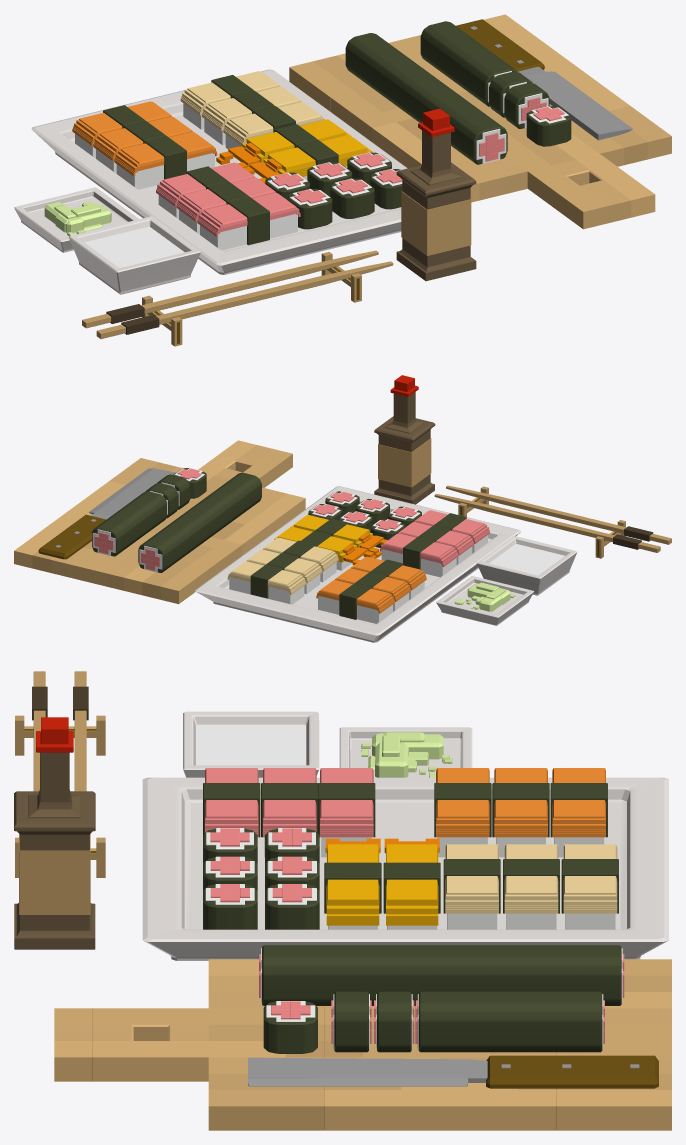
The model's file is soosh.fbx.
The picture shows the model from 3 angles, top to bottom: view 1: azimuth 30°, elevation 25°; view 2: azimuth 150°, elevation 25°; view 3: azimuth 270°, elevation 25°; orthographic projection. The views are drawn at different scales.
Parts seen in each view (by area): view 1: pCube215, pCube83, pCube7, pCube255, pCube10, pCube4, pCube89, pCube32, pCube12, pCube92, pCube8, pCube77 (+35 smaller); view 2: pCube215, pCube83, pCube7, pCube255, pCube10, pCube24, pCube91, pCube88, pCube12, pCube92, pCube77, pCube32 (+12 smaller); view 3: pCube215, pCube83, pCube7, pCube255, pCube32, pCube92, pCube91, pCube23, pCube90, pCube11, pCube89, pCube24 (+38 smaller).
Boxes of the visible parts, x1,y1,x2,y2 form: pCube215: [289, 14, 671, 229]; pCube83: [31, 69, 407, 274]; pCube7: [396, 108, 476, 281]; pCube255: [456, 19, 632, 140]; pCube10: [69, 216, 200, 294]; pCube4: [197, 193, 300, 250]; pCube89: [114, 132, 217, 189]; pCube32: [244, 135, 372, 183]; pCube12: [14, 187, 139, 252]; pCube92: [216, 119, 350, 167]; pCube8: [82, 250, 378, 328]; pCube77: [96, 261, 393, 338]; pCube215: [14, 440, 305, 604]; pCube83: [195, 486, 520, 642]; pCube7: [374, 375, 435, 504]; pCube255: [38, 468, 175, 559]; pCube10: [476, 536, 577, 595]; pCube24: [316, 580, 394, 623]; pCube91: [227, 561, 306, 604]; pCube88: [380, 533, 458, 577]; pCube12: [436, 576, 534, 625]; pCube92: [274, 526, 376, 570]; pCube77: [446, 485, 671, 544]; pCube32: [290, 515, 387, 557]; pCube215: [54, 959, 671, 1130]; pCube83: [142, 777, 668, 960]; pCube7: [14, 717, 95, 949]; pCube255: [248, 1055, 658, 1088]; pCube32: [324, 838, 381, 929]; pCube92: [383, 838, 440, 929]; pCube91: [561, 844, 618, 929]; pCube23: [443, 844, 500, 929]; pCube90: [503, 844, 559, 929]; pCube11: [196, 724, 306, 765]; pCube89: [434, 768, 491, 857]; pCube24: [550, 768, 607, 857].
Size of what is drawn, in the model's own units: 50.1 by 11.67 by 32.36.
